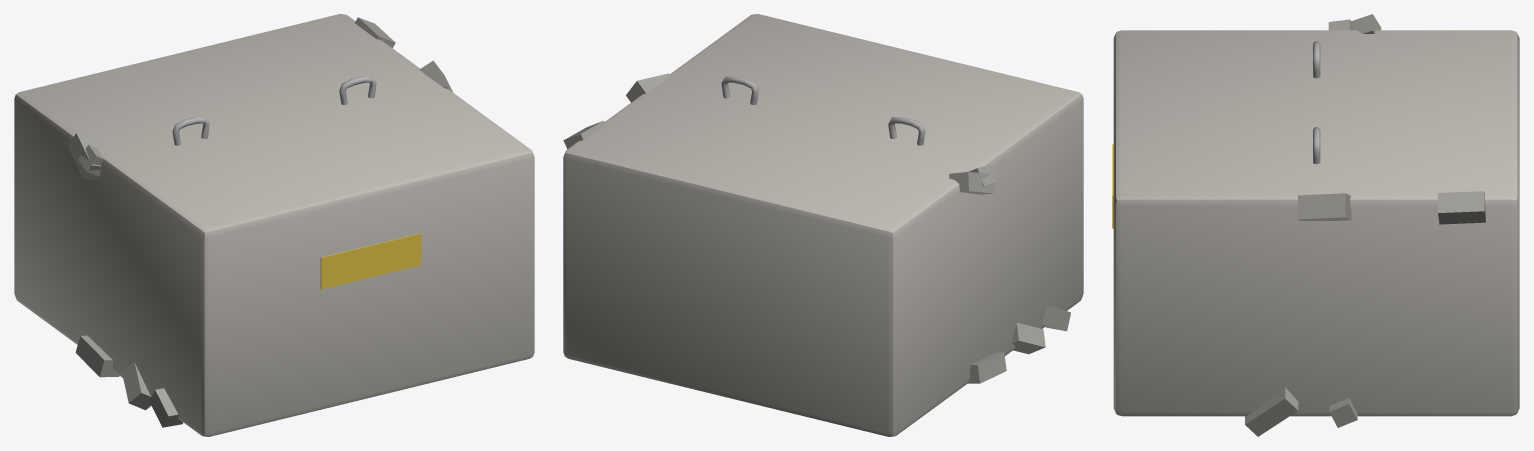
The model's file is block.glb.
3 views of the same model, side by side, from view 1: azimuth 30°, elevation 25°; view 2: azimuth 150°, elevation 25°; view 3: azimuth 270°, elevation 25° (orthographic). The views are drawn at different scales.
Parts seen in each view (by area): view 1: Part; view 2: Part; view 3: Part.
Part boxes in pixels (x1,y1,x2,y2): Part: (14,14,534,436); Part: (563,14,1083,436); Part: (1112,14,1519,436).
Size of the model in its own units: 2.21 by 1.41 by 2.01.
